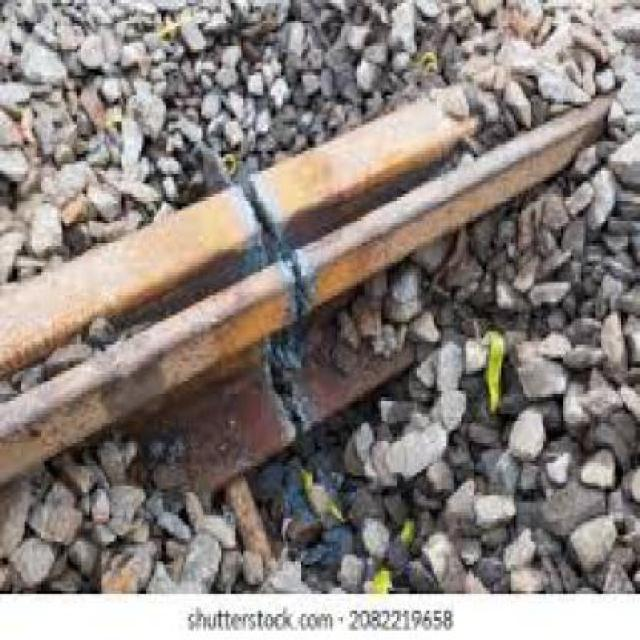defective: (2, 64, 626, 502)
